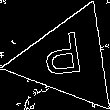P_S: (44, 32, 91, 87)
